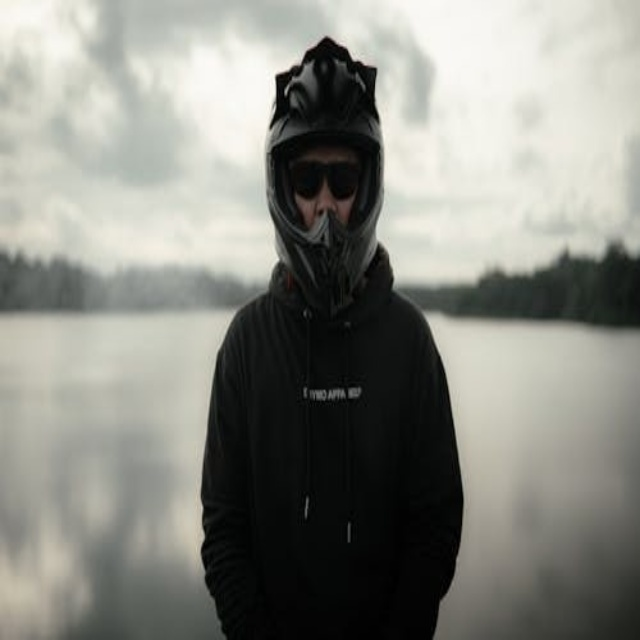Gafas: (284, 148, 362, 206)
